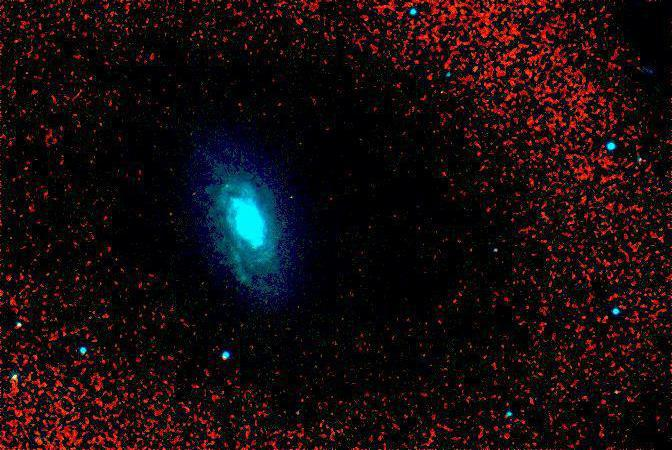star: (211, 173, 241, 203)
